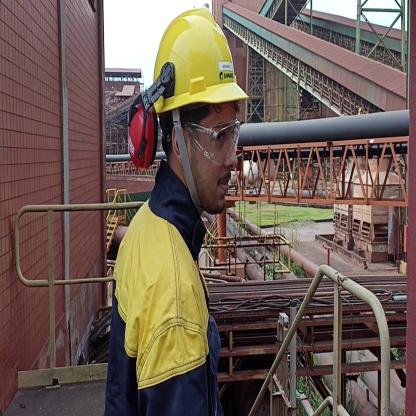C_eletrica: (100, 219, 229, 416)
Capacete: (141, 3, 248, 106)
